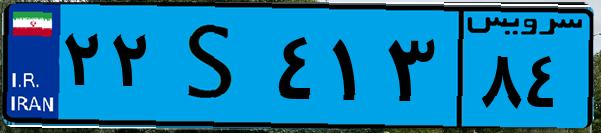1: (330, 28, 385, 110)
2: (57, 26, 110, 100), (110, 28, 158, 98)
3: (385, 28, 445, 110)
4: (270, 28, 330, 110), (525, 38, 570, 115)
8: (475, 38, 525, 113)
S: (158, 12, 270, 120)
